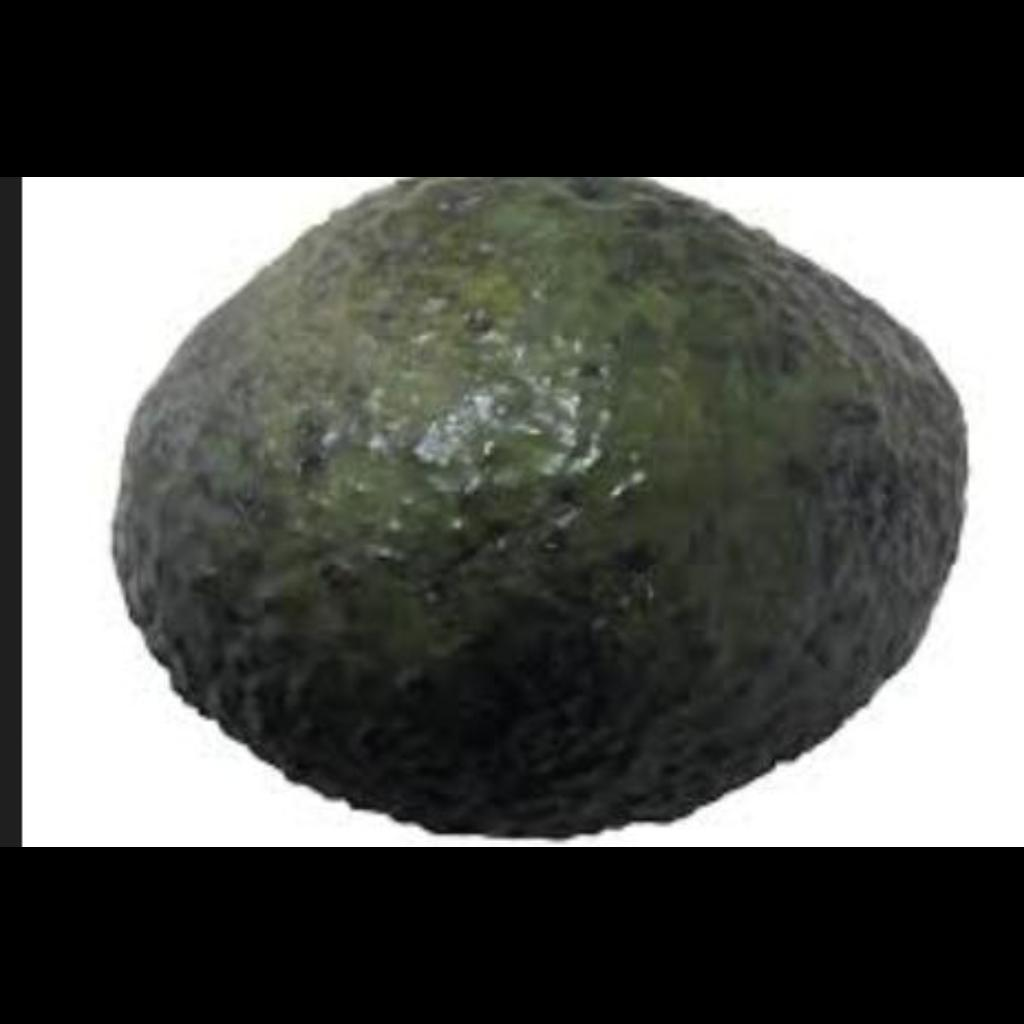Healthy: (88, 204, 976, 832)
